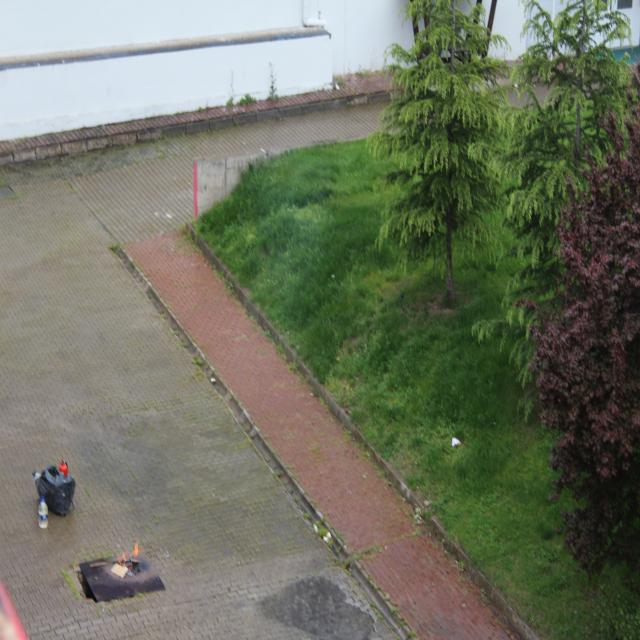fire: (118, 540, 142, 568)
